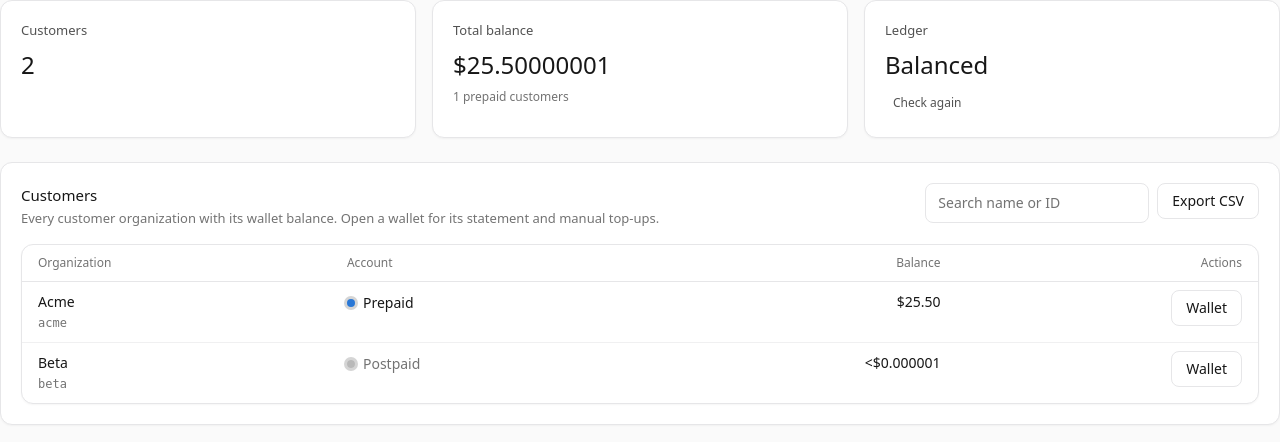
Test: billing customers and wallets (card 25.1) › lists every customer with its balance and the exact total
This screenshot has width=1280, height=442.
Expected: the number of rows with test id "customer-row" is 2, [22,282,1258,342]; [22,342,1258,403]
Expected: the text "Acme" is shown, [38,292,75,311]
Type "bet" into the search field labelled "Search name or ID". click: (1037, 202)
box: [925,182,1149,222]
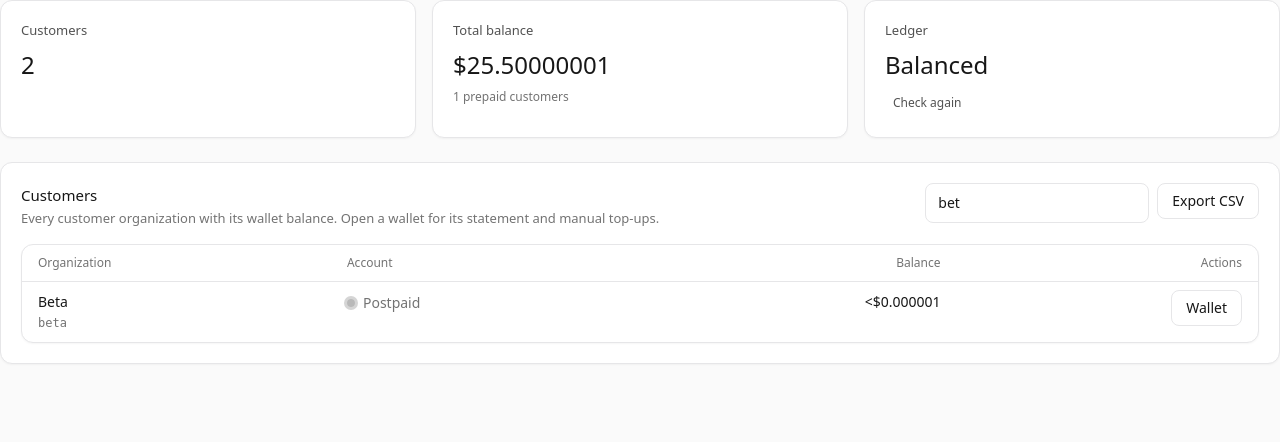
Now the number of rows with test id "customer-row" is 1, box [22,282,1258,342]
